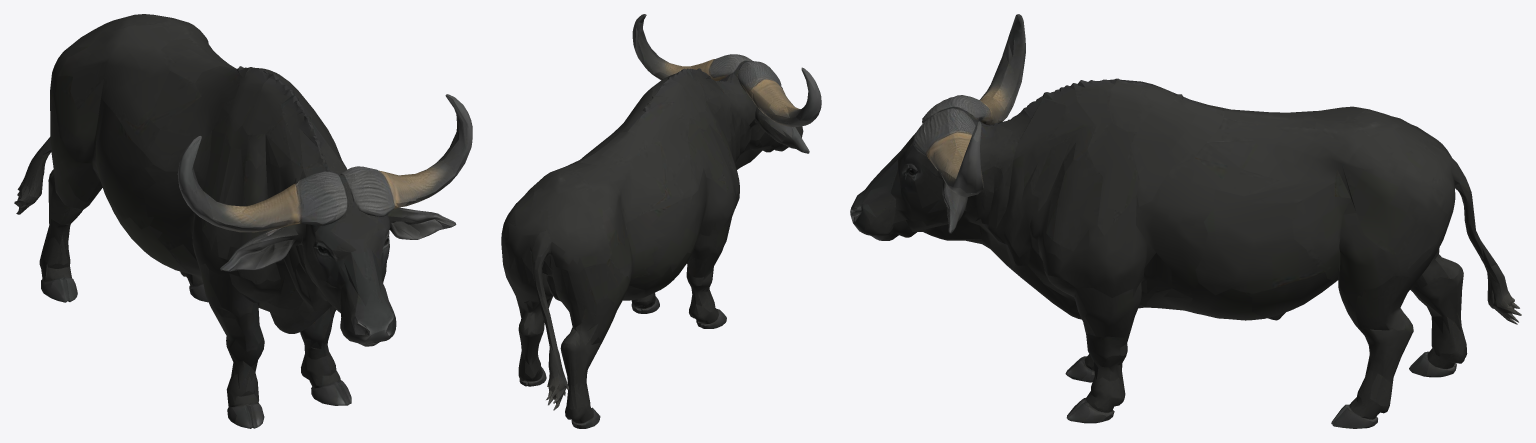
File: buffle.glb
The picture shows the model from 3 angles, left to right: view 1: azimuth 30°, elevation 25°; view 2: azimuth 150°, elevation 25°; view 3: azimuth 270°, elevation 25°; orthographic projection. The views are drawn at different scales.
Bounding box in the file's own units: 0.8591 × 1.01 × 1.9.
1 material, 1 textured.
